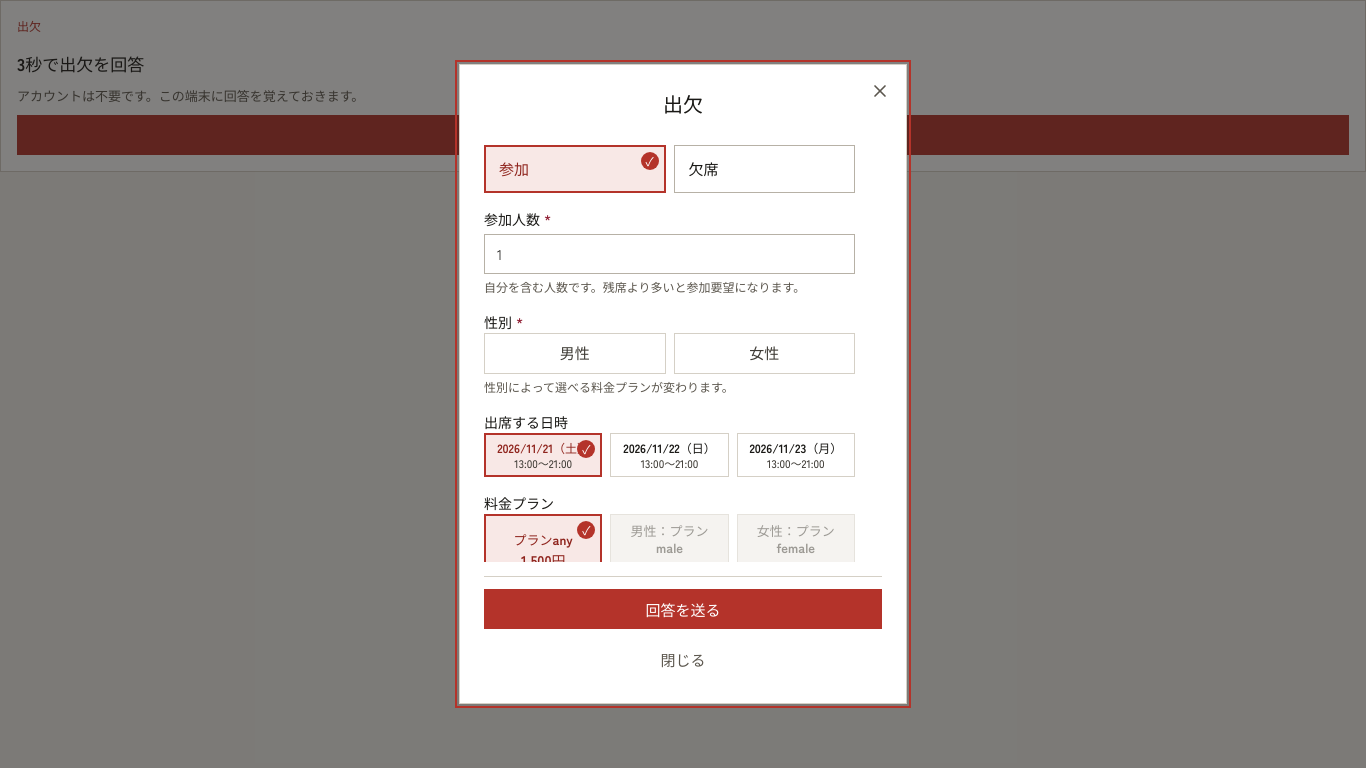
Test: 欠席にしたとき › 欄は消さず、残したまま押せなくする
Click the radio button named "rsvp" at (764,169), box [674,145,855,193]
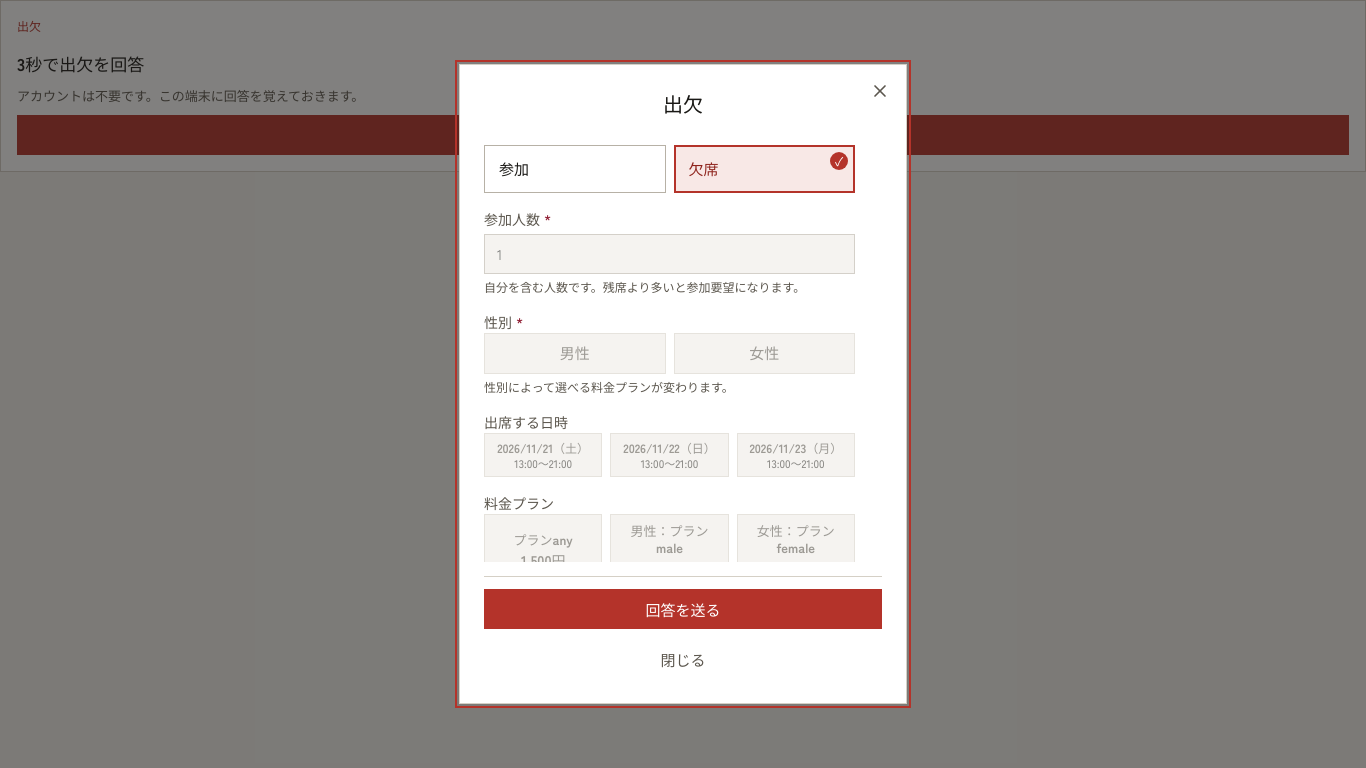
Expected: the text "性別" is shown, [484,312,516,332]
Expected: the radio button named "price-plan" is disabled, [484,514,602,562]
